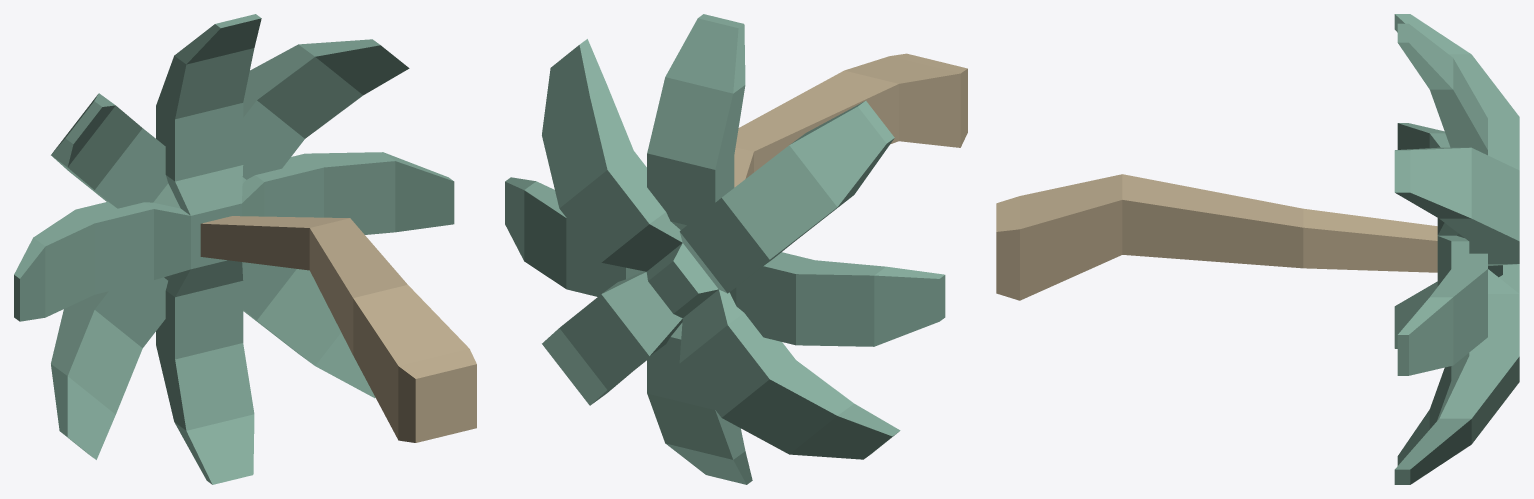
3 views of the same model, side by side, from view 1: azimuth 30°, elevation 25°; view 2: azimuth 150°, elevation 25°; view 3: azimuth 270°, elevation 25° (orthographic). The views are drawn at different scales.
Visible parts, largest first — view 1: Mesh2 Group3 Group1 Model; view 2: Mesh2 Group3 Group1 Model; view 3: Mesh2 Group3 Group1 Model.
Boxes of the visible parts, x1=… form: Mesh2 Group3 Group1 Model: x1=14, y1=14, x2=476, y2=484; Mesh2 Group3 Group1 Model: x1=505, y1=14, x2=967, y2=484; Mesh2 Group3 Group1 Model: x1=996, y1=14, x2=1519, y2=484.
Size of the model in its own units: 309 by 309 by 336.
